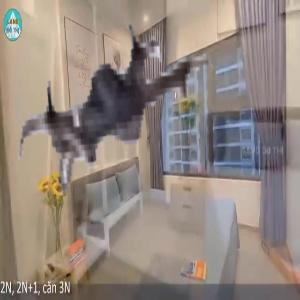drone: (9, 2, 241, 234)
